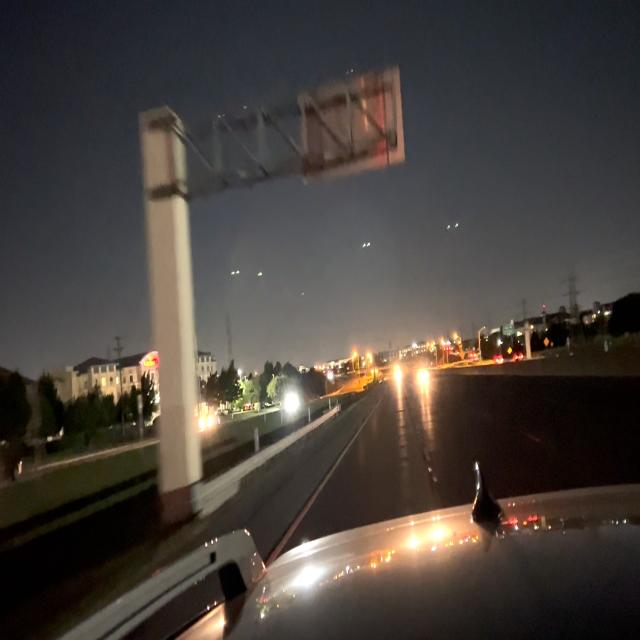back-of-sign: (299, 70, 407, 182)
